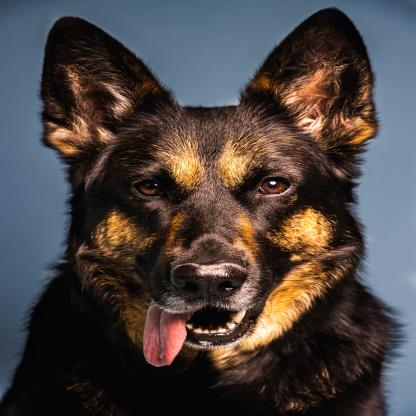german shepherd: (22, 21, 392, 416)
